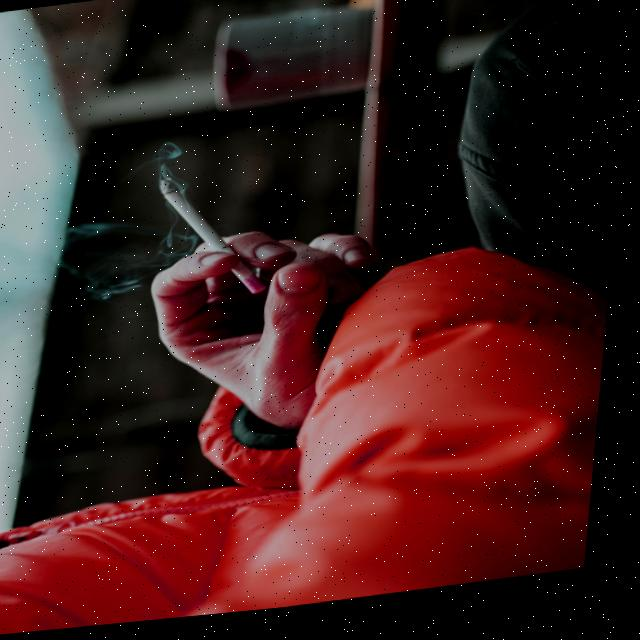cigarette: (159, 178, 235, 253), (232, 258, 266, 293)
